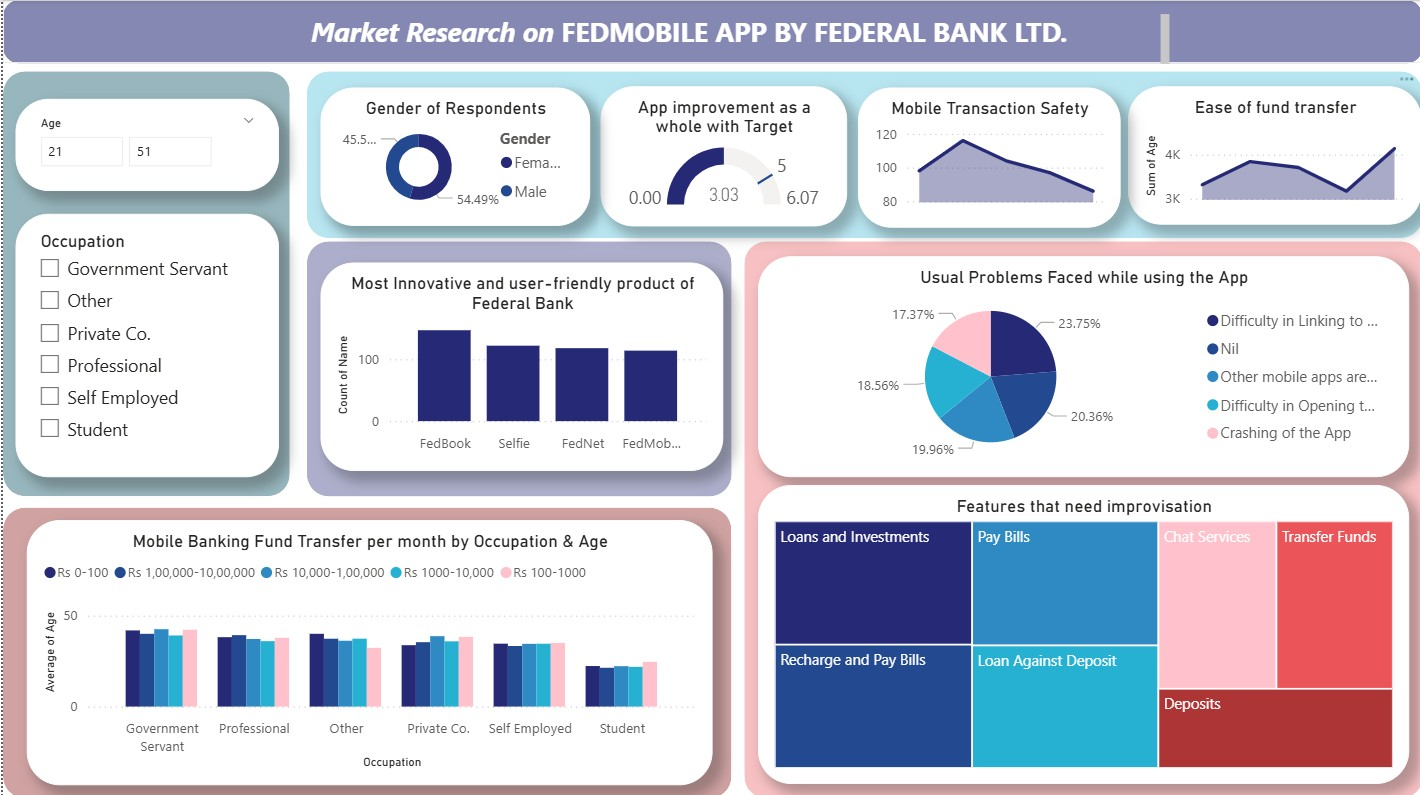

What the dashboard file says about the page in this screenshot:
{"tool":"powerbi","page":{"name":"FedMobile App Analysis","canvas":[1280,720],"ordinal":0},"visuals":[{"type":"shape","box":[0,0,1280,57.2],"z":0},{"type":"shape","box":[0,64.7,258.7,383.1],"z":1000},{"type":"shape","box":[668,217.7,612,502.6],"z":2000},{"type":"slicer","title":"Age of Respondents","fields":{"Values":["FedMobile_Survey_Final.Age"]},"box":[11.2,89.6,237.6,83.3],"z":3000},{"type":"pieChart","title":" Usual Problems Faced while using the App","fields":{"Category":["FedMobile_Survey_Final.Usual Problems Faced"],"Y":["CountNonNull(FedMobile_Survey_Final.Name)"]},"box":[680.4,231.4,587.1,199],"z":4000},{"type":"shape","box":[273.7,217.7,383.1,230.1],"z":5000},{"type":"shape","box":[273.7,64.7,1006.4,150.5],"z":6000},{"type":"columnChart","title":"Most Innovative and user-friendly product of Federal Bank","fields":{"Category":["FedMobile_Survey_Final.Most Innovative and user-friendly product of Federal Bank"],"Y":["CountNonNull(FedMobile_Survey_Final.Name)"]},"box":[286.1,236.4,363.2,187.8],"z":7000},{"type":"gauge","title":"App improvement as a whole with Target","fields":{"Y":["Avg(FedMobile_Survey_Final.App improvement as a whole)"],"TargetValue":["FedMobile_Survey_Final.App Improvement Goal"]},"box":[538.7,77.3,222.1,126.4],"z":8000},{"type":"treemap","title":"Features that need improvisation","fields":{"Group":["FedMobile_Survey_Final.Feature that need improvisation"],"Values":["CountNonNull(FedMobile_Survey_Final.Feature that need improvisation)"]},"box":[680.4,437.9,587.1,269.9],"z":9000},{"type":"shape","box":[0,457.8,656.8,262.5],"z":10000},{"type":"clusteredColumnChart","title":"Mobile Banking Fund Transfer per month by Occupation & Age","fields":{"Category":["FedMobile_Survey_Final.Occupation"],"Y":["Avg(FedMobile_Survey_Final.Age)"],"Series":["FedMobile_Survey_Final.Mobile Banking Fund Transfer per month"]},"box":[21.1,469,618.2,238.8],"z":11000},{"type":"slicer","fields":{"Values":["FedMobile_Survey_Final.Occupation"]},"box":[11.2,192.8,237.6,237.6],"z":12000},{"type":"donutChart","title":"Gender of Respondents","fields":{"Category":["FedMobile_Survey_Final.Gender"],"Y":["CountNonNull(FedMobile_Survey_Final.Gender)"]},"box":[285.9,78.5,242.9,125.2],"z":13000},{"type":"areaChart","title":"Ease of fund transfer","fields":{"Category":["FedMobile_Survey_Final.Ease of transfer of funds into Federal Bank Accounts"],"Y":["Sum(FedMobile_Survey_Final.Age)"]},"box":[1014.7,77.3,265,125.2],"z":14000},{"type":"areaChart","title":"Mobile Transaction Safety ","fields":{"Category":["FedMobile_Survey_Final.Mobile transaction Safety"],"Y":["CountNonNull(FedMobile_Survey_Final.Name)"]},"box":[770.6,78.5,236.8,126.4],"z":15000},{"type":"textbox","box":[189.1,7.5,867,57.2],"z":16000}]}

Visuals, with their boxes in screenshot pixels (x1, y1, x2, y2), scaled from the page's 1280x720 canvas onto the 1420x795 screenshot:
shape: 0 0 1419 63
shape: 0 71 287 494
shape: 741 240 1419 794
"Age of Respondents" slicer: 12 99 276 191
" Usual Problems Faced while using the App" pieChart: 755 256 1406 475
shape: 304 240 729 494
shape: 304 71 1419 238
"Most Innovative and user-friendly product of Federal Bank" columnChart: 317 261 720 468
"App improvement as a whole with Target" gauge: 598 85 844 225
"Features that need improvisation" treemap: 755 484 1406 782
shape: 0 505 729 794
"Mobile Banking Fund Transfer per month by Occupation & Age" clusteredColumnChart: 23 518 709 782
slicer - FedMobile_Survey_Final.Occupation: 12 213 276 475
"Gender of Respondents" donutChart: 317 87 587 225
"Ease of fund transfer" areaChart: 1126 85 1419 224
"Mobile Transaction Safety " areaChart: 855 87 1118 226
textbox: 210 8 1172 71
